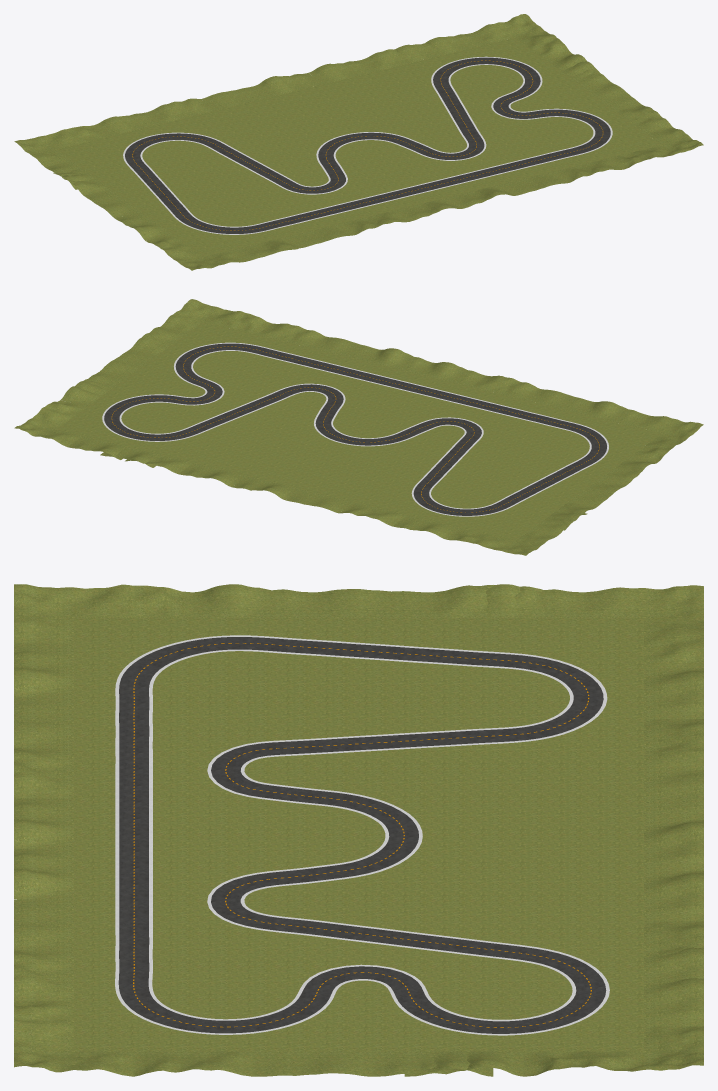
File: AWS_track.dae
3 renders of one model, top to bottom at view 1: azimuth 30°, elevation 25°; view 2: azimuth 150°, elevation 25°; view 3: azimuth 270°, elevation 25°, orthographic. The views are drawn at different scales.
Visible parts, largest first — view 1: field, bg_terrain, road, outerLine, innerLine, centerLine; view 2: field, bg_terrain, road, outerLine, innerLine, centerLine; view 3: field, bg_terrain, road, outerLine, innerLine, centerLine.
Part boxes in pixels (x1,y1,x2,y2): field: [56, 37, 661, 256]; bg_terrain: [14, 14, 703, 270]; road: [125, 57, 610, 233]; outerLine: [123, 56, 612, 234]; innerLine: [140, 64, 595, 227]; centerLine: [132, 60, 603, 230]; field: [56, 322, 661, 541]; bg_terrain: [14, 299, 703, 555]; road: [104, 343, 606, 515]; outerLine: [102, 342, 608, 516]; innerLine: [119, 350, 591, 509]; centerLine: [111, 346, 599, 512]; field: [74, 617, 643, 1051]; bg_terrain: [14, 584, 703, 1076]; road: [118, 637, 606, 1033]; outerLine: [115, 635, 609, 1035]; innerLine: [148, 649, 576, 1021]; centerLine: [133, 643, 591, 1027].
Size of the model in its own units: 23.36 by 14.06 by 0.2962.
Materials: 6 (6 with a texture image).
